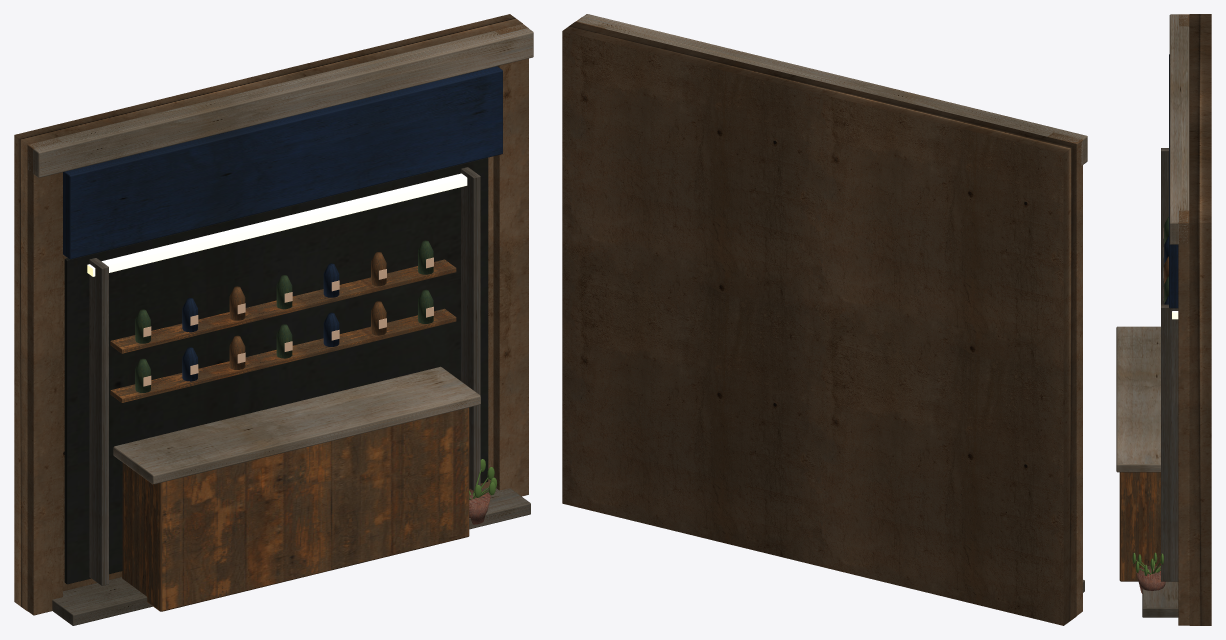
The model's file is mat_tien_tret_03.glb.
3 renders of one model, left to right at view 1: azimuth 30°, elevation 25°; view 2: azimuth 150°, elevation 25°; view 3: azimuth 270°, elevation 25°, orthographic. The views are drawn at different scales.
Parts seen in each view (by area): view 1: mat_tien_tret_03.001; view 2: mat_tien_tret_03.001; view 3: mat_tien_tret_03.001.
Boxes of the visible parts, bbox=[...] form: mat_tien_tret_03.001: bbox=[14, 14, 533, 625]; mat_tien_tret_03.001: bbox=[562, 14, 1087, 625]; mat_tien_tret_03.001: bbox=[1116, 14, 1211, 625].
Size of the model in its own units: 4 by 3.6 by 0.77.
Materials: 3 (2 with a texture image).
